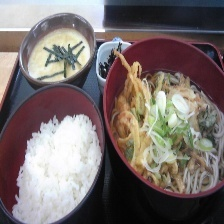rice: (10, 114, 102, 223)
